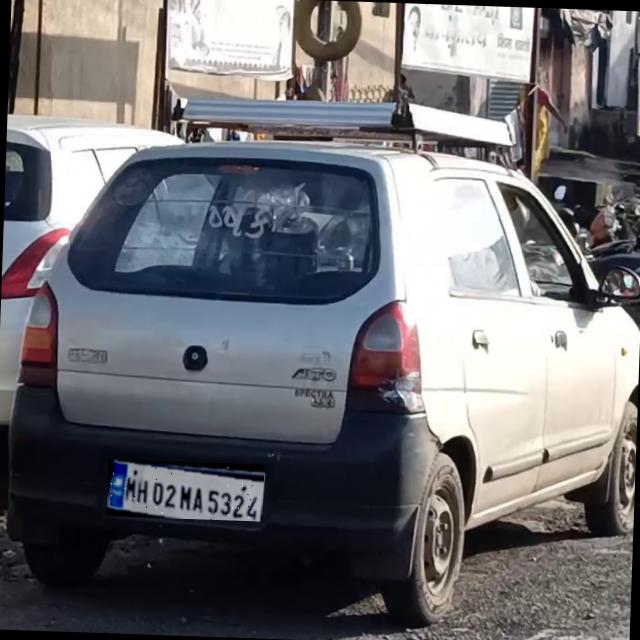Plate: (107, 460, 265, 522)
